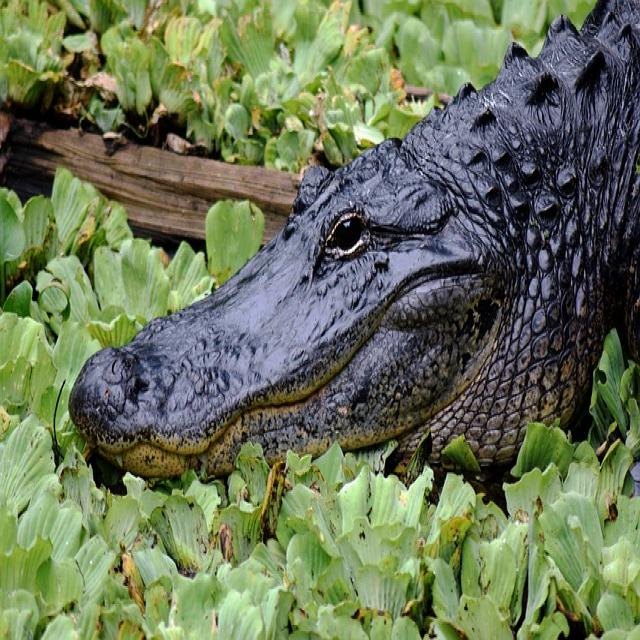Carnivorous: (67, 0, 640, 511)
